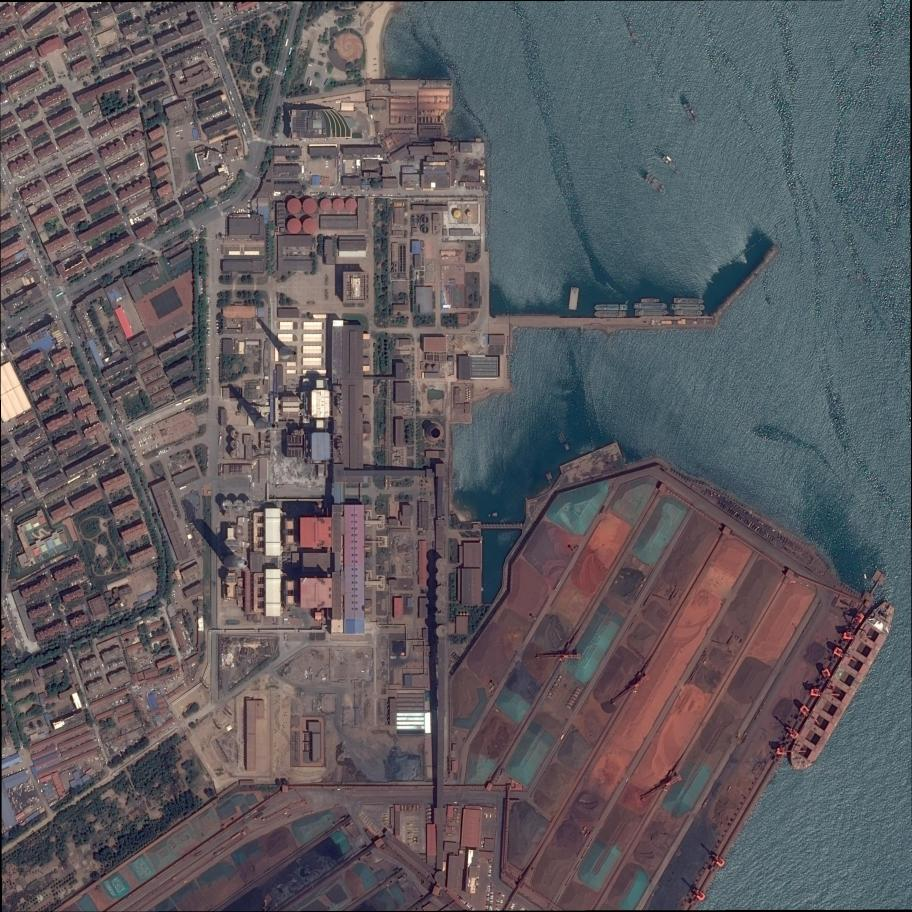large-vehicle: (231, 832, 241, 840), (254, 812, 263, 820), (193, 851, 202, 858), (303, 811, 314, 816), (179, 485, 187, 490), (184, 398, 191, 403), (283, 68, 287, 76), (285, 39, 289, 47), (175, 402, 182, 406), (289, 47, 292, 55)
ship: (783, 598, 903, 776), (643, 173, 668, 195), (661, 155, 682, 176), (683, 102, 698, 124), (670, 303, 705, 311), (568, 287, 579, 310), (633, 302, 667, 309), (635, 309, 669, 316), (594, 304, 628, 311), (594, 311, 628, 318), (674, 297, 704, 304), (675, 310, 702, 316), (641, 298, 660, 302)
storage-tank: (287, 218, 302, 234), (287, 198, 302, 214), (303, 198, 317, 214), (303, 218, 317, 234), (333, 198, 345, 211), (320, 198, 332, 211), (346, 198, 357, 211), (222, 499, 233, 512), (437, 624, 447, 638), (234, 500, 244, 512), (245, 500, 254, 512), (231, 429, 240, 439), (231, 439, 240, 448), (231, 450, 240, 459), (421, 225, 429, 234), (453, 210, 461, 218), (421, 216, 429, 224), (467, 211, 472, 217), (463, 613, 466, 616), (466, 613, 469, 616), (460, 613, 462, 616)
